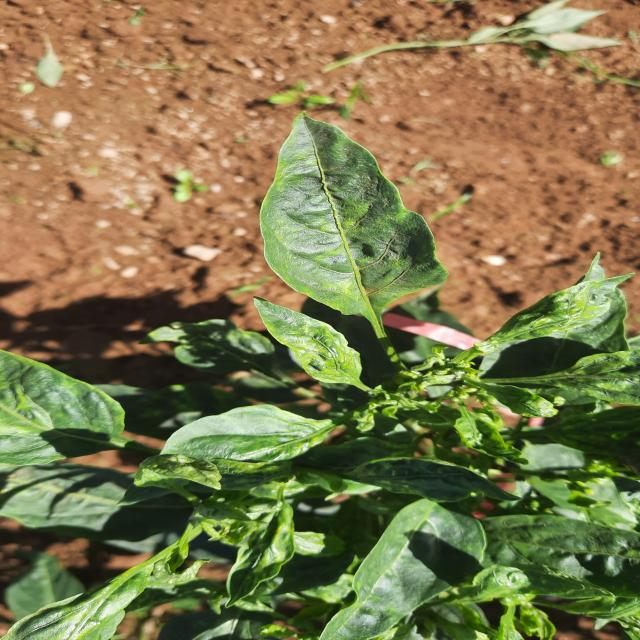thrips: (248, 110, 492, 312), (140, 398, 376, 480), (230, 294, 370, 390)
